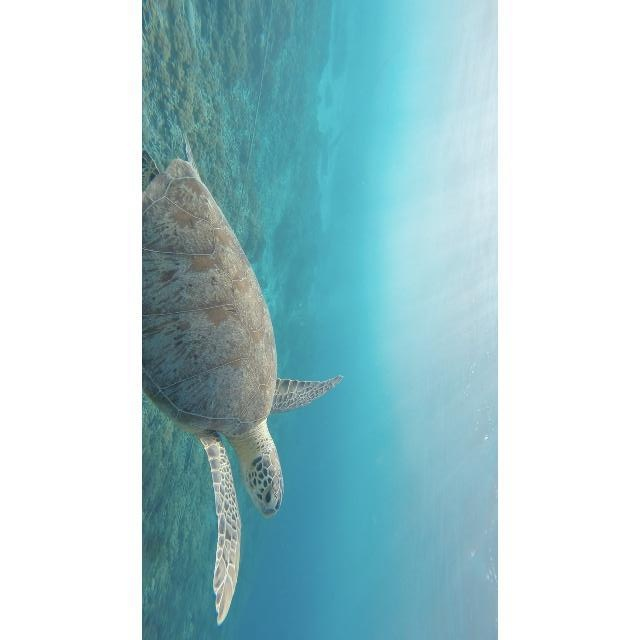turtle: (147, 135, 343, 624)
